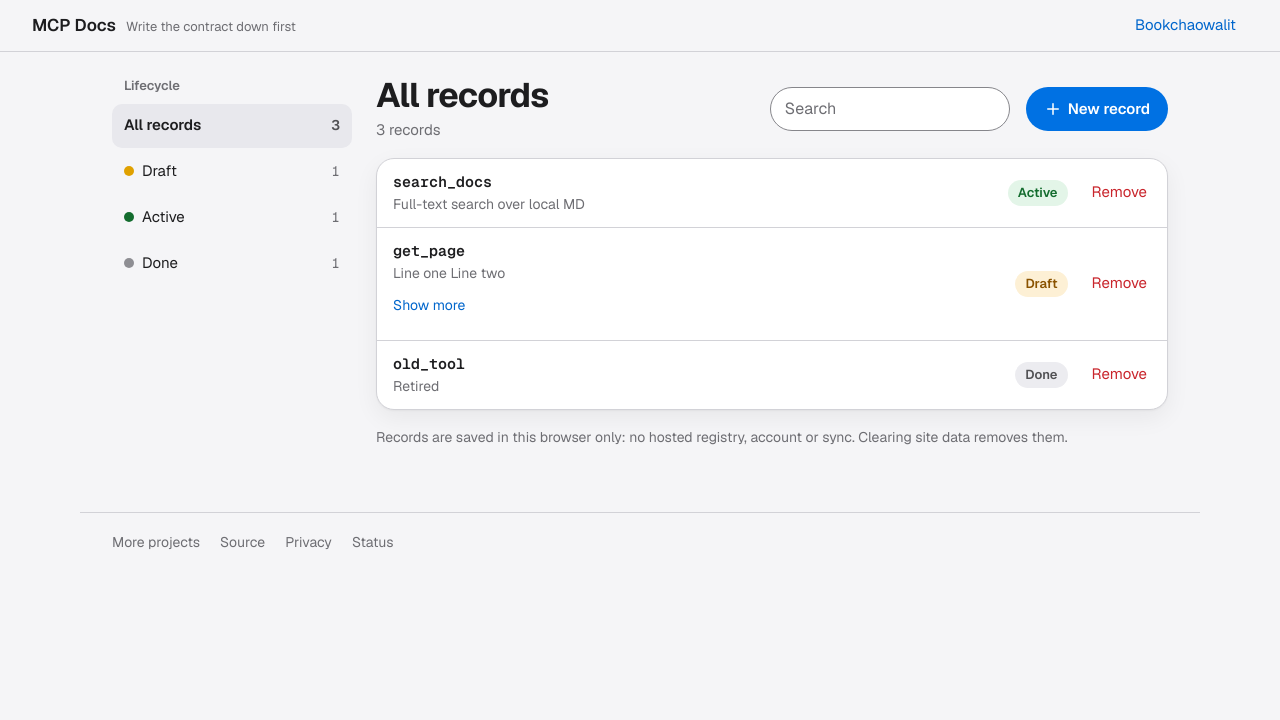
Scenario: lists and search › filters by lifecycle with counts, and shows a list-specific empty state
This screenshot has width=1280, height=720.
Check: the button "All records 3" is shown, box [112,104,352,148]
Click the button "Active 1" at (232, 218), box [112,196,352,240]
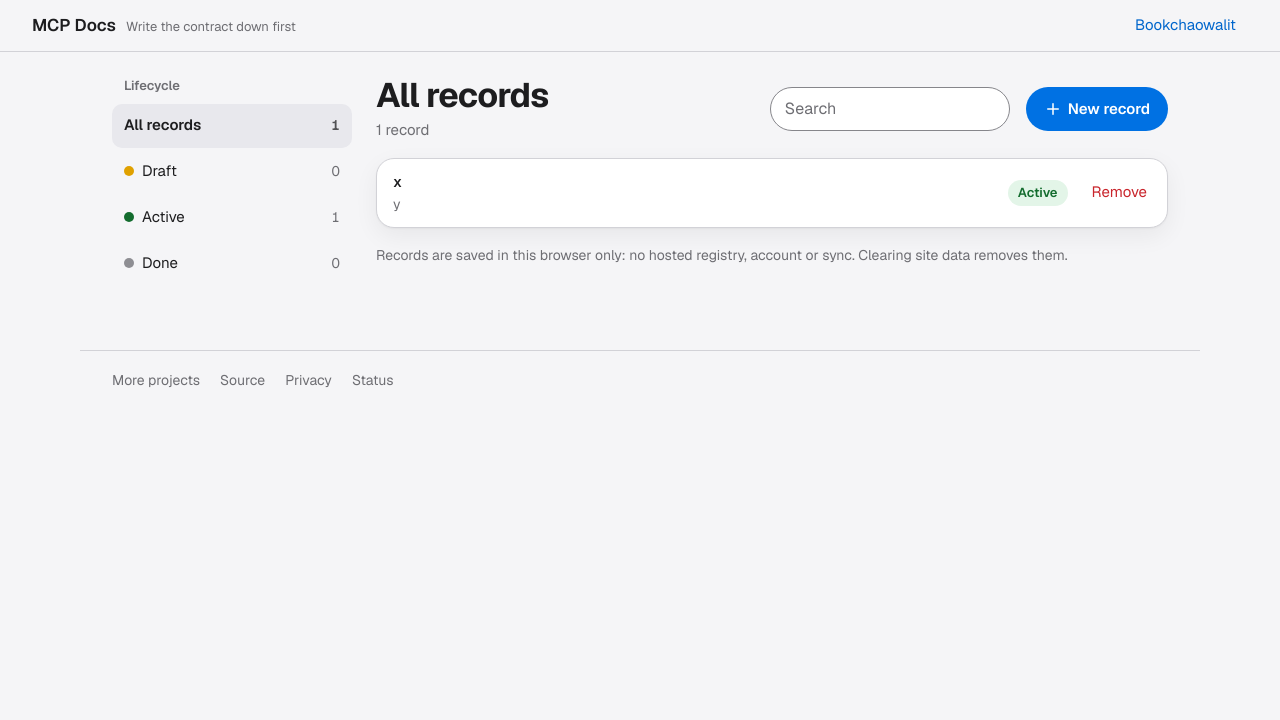
Click the button "Done 0" at (232, 264), box [112,242,352,286]
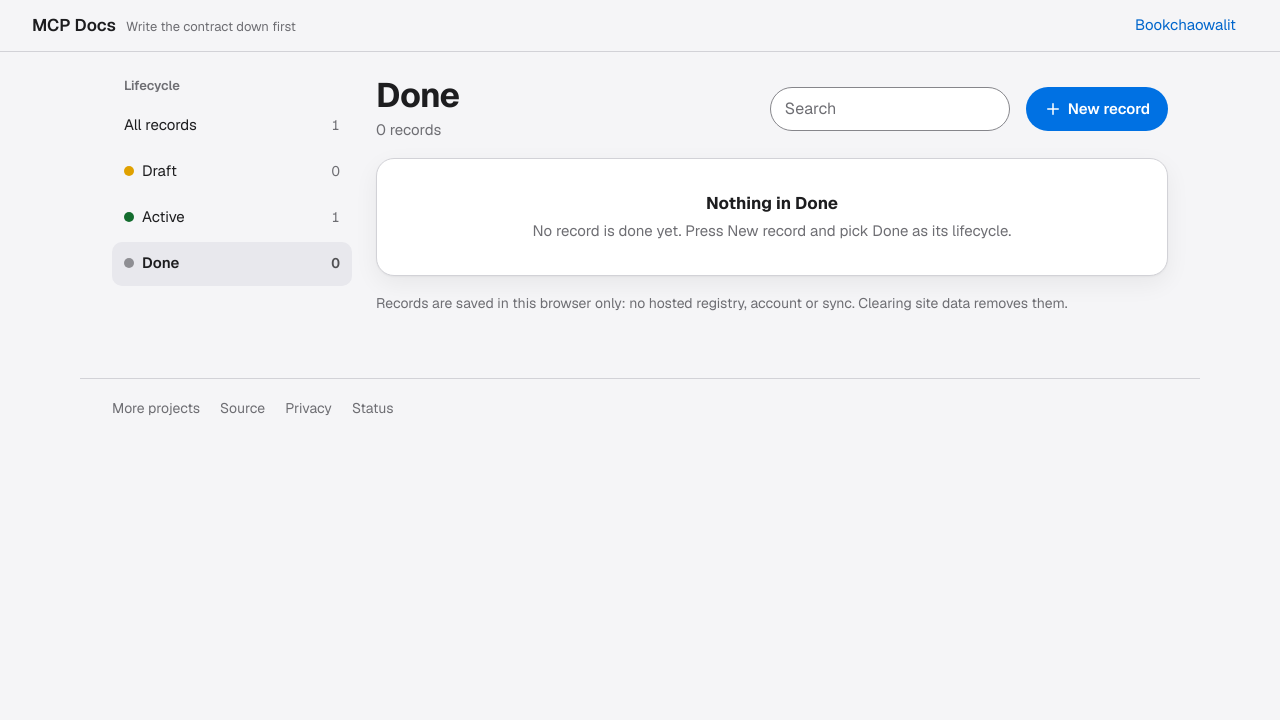
Check: the text "Nothing in Done" is shown, box [706,192,838,214]
